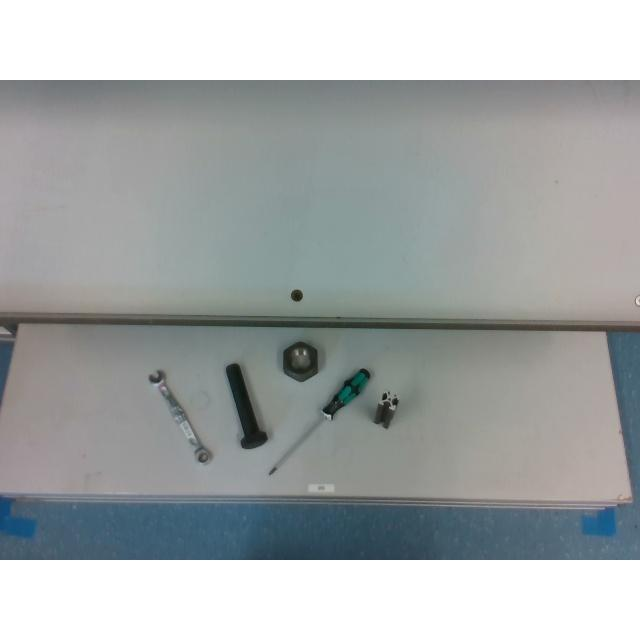F20_20_B: (374, 392, 398, 428)
M20_100: (225, 364, 267, 448)
M30: (283, 342, 317, 382)
Screwdriver: (266, 369, 370, 477)
Wrench: (148, 370, 212, 462)
